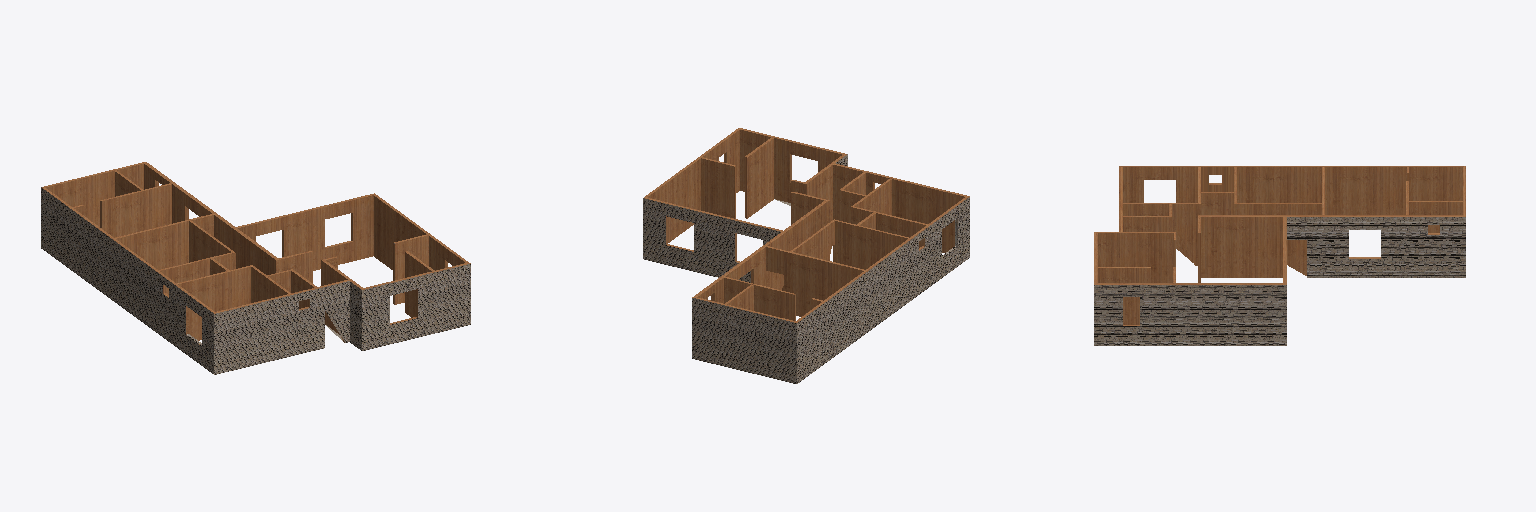
3 renders of one model, left to right at view 1: azimuth 30°, elevation 25°; view 2: azimuth 150°, elevation 25°; view 3: azimuth 270°, elevation 25°, orthographic.
Parts seen in each view (by area): view 1: Cube_Cube.002; view 2: Cube_Cube.002; view 3: Cube_Cube.002.
Part boxes in pixels (x1,y1,x2,y2): Cube_Cube.002: (41, 162, 470, 374); Cube_Cube.002: (643, 128, 969, 383); Cube_Cube.002: (1094, 166, 1465, 345).
Size of the model in its own units: 61.65 by 14.8 by 81.39.
1 materials, 1 textured.